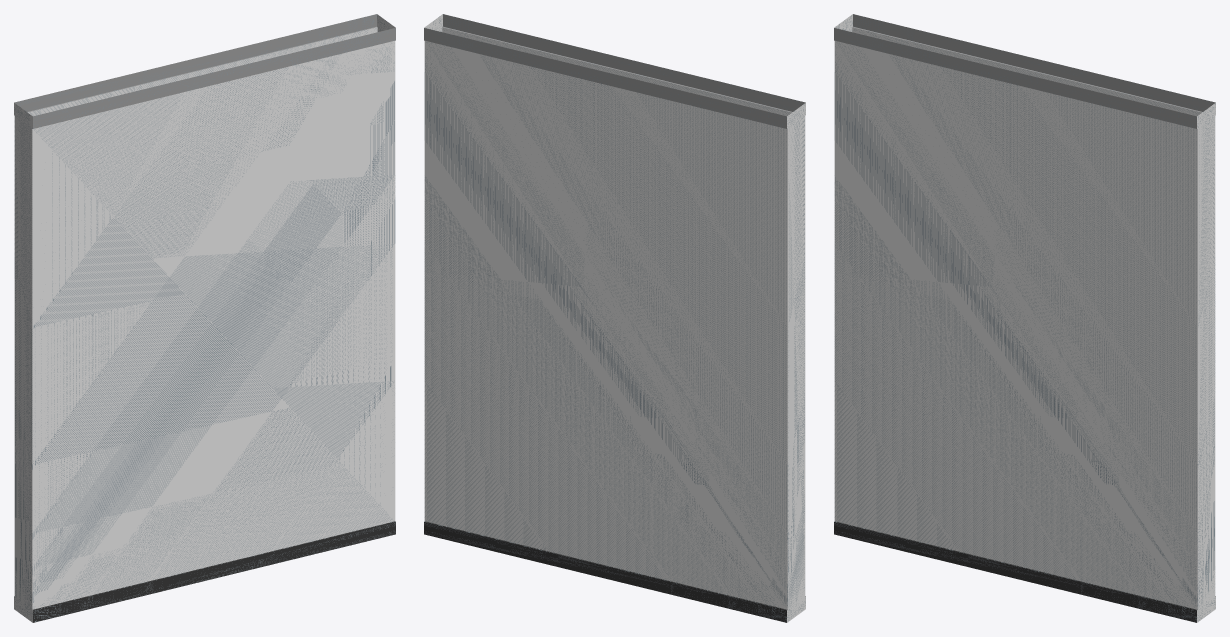
File: BlockWall_ds_plinth_3x4x025.dae
The picture shows the model from 3 angles, left to right: view 1: azimuth 30°, elevation 25°; view 2: azimuth 150°, elevation 25°; view 3: azimuth 330°, elevation 25°; orthographic projection.
Parts seen in each view (by area): view 1: group_0 (×4); view 2: group_0 (×4); view 3: group_0 (×4).
Part boxes in pixels (x1,y1,x2,y2): group_0 (×4): (14,14,395,622); group_0 (×4): (424,14,805,622); group_0 (×4): (834,14,1215,622).
Bounding box in the file's own units: 118 × 10.63 × 157.
